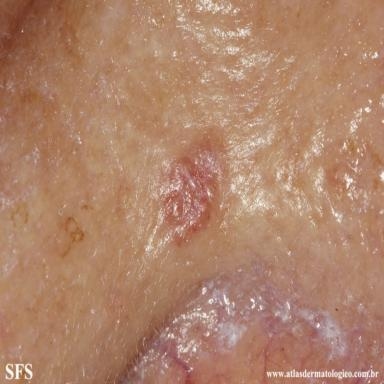basal-cell-carcinoma: (161, 139, 223, 242)
